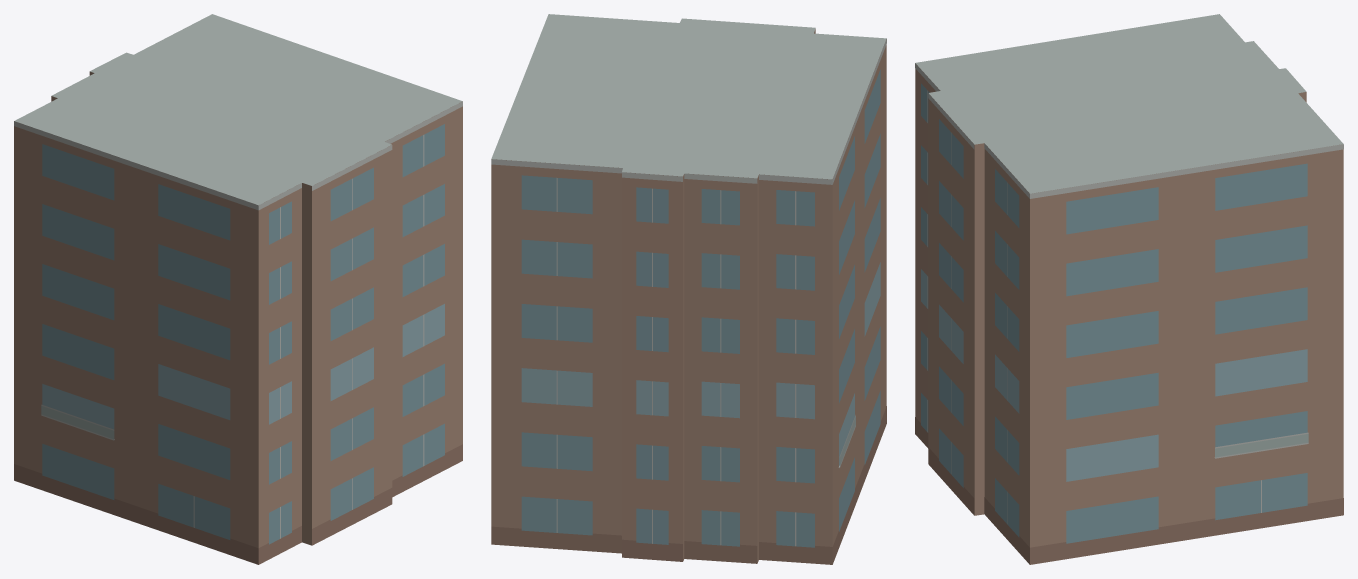
The model's file is survey-upis-32941912.glb.
The picture shows the model from 3 angles, left to right: view 1: azimuth 30°, elevation 25°; view 2: azimuth 150°, elevation 25°; view 3: azimuth 270°, elevation 25°; orthographic projection. The views are drawn at different scales.
Parts seen in each view (by area): view 1: survey-upis-32941912.tmp; view 2: survey-upis-32941912.tmp; view 3: survey-upis-32941912.tmp.
Part boxes in pixels (box(x1,y1,x2,y2)): survey-upis-32941912.tmp: box(14, 14, 462, 564); survey-upis-32941912.tmp: box(491, 14, 886, 564); survey-upis-32941912.tmp: box(915, 14, 1343, 564).
Bounding box in the file's own units: 17.87 × 17.2 × 18.01.
